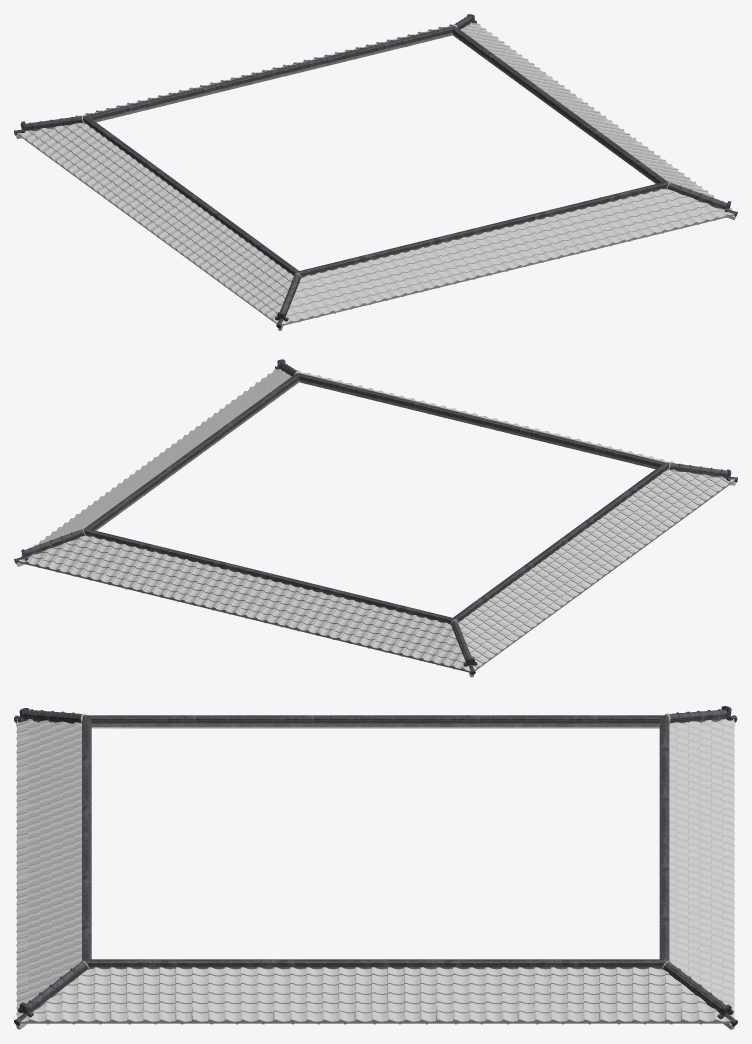
File: SM_KYT_Roof1F_B_L1.fbx
3 renders of one model, top to bottom at view 1: azimuth 30°, elevation 25°; view 2: azimuth 150°, elevation 25°; view 3: azimuth 270°, elevation 25°, orthographic. The views are drawn at different scales.
Visible parts, largest first — view 1: SM_KYT_Roof1F_B_L1_LOD0; view 2: SM_KYT_Roof1F_B_L1_LOD0; view 3: SM_KYT_Roof1F_B_L1_LOD0.
Part boxes in pixels (x1,y1,x2,y2): SM_KYT_Roof1F_B_L1_LOD0: (14,14,737,330); SM_KYT_Roof1F_B_L1_LOD0: (14,359,737,677); SM_KYT_Roof1F_B_L1_LOD0: (14,706,737,1029).
Size of the model in its own units: 1066 by 1065 by 66.9.
